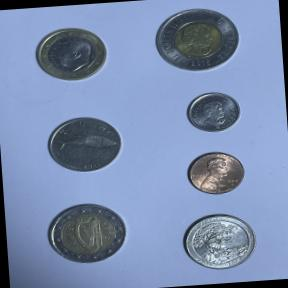coin: (150, 2, 244, 76), (42, 200, 131, 270), (42, 110, 128, 179), (178, 209, 260, 274), (30, 22, 110, 87), (183, 146, 247, 198), (183, 88, 244, 136)
